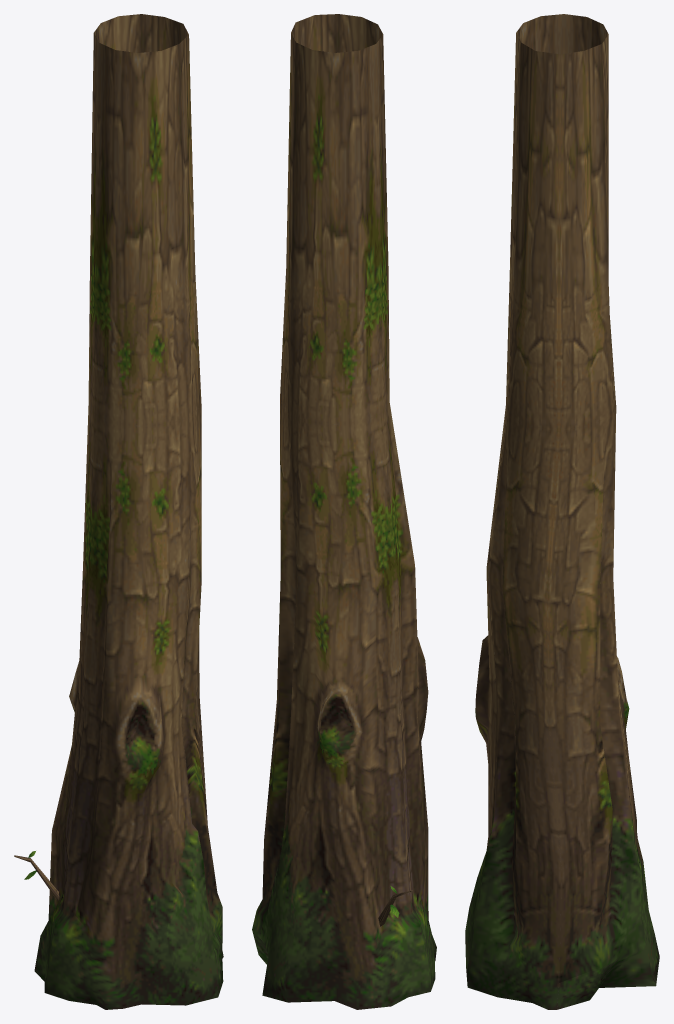
Rendered from shrine_plant007_02.FBX.
3 renders of one model, left to right at view 1: azimuth 30°, elevation 25°; view 2: azimuth 150°, elevation 25°; view 3: azimuth 270°, elevation 25°, orthographic.
Visible parts, largest first — view 1: shrine_plant007_02; view 2: shrine_plant007_02; view 3: shrine_plant007_02.
Part boxes in pixels (x1=…): shrine_plant007_02: x1=14, y1=14, x2=223, y2=1009; shrine_plant007_02: x1=252, y1=14, x2=436, y2=1009; shrine_plant007_02: x1=465, y1=14, x2=659, y2=1009.
Size of the model in its own units: 217 by 1093 by 205.
1 material, 1 textured.
